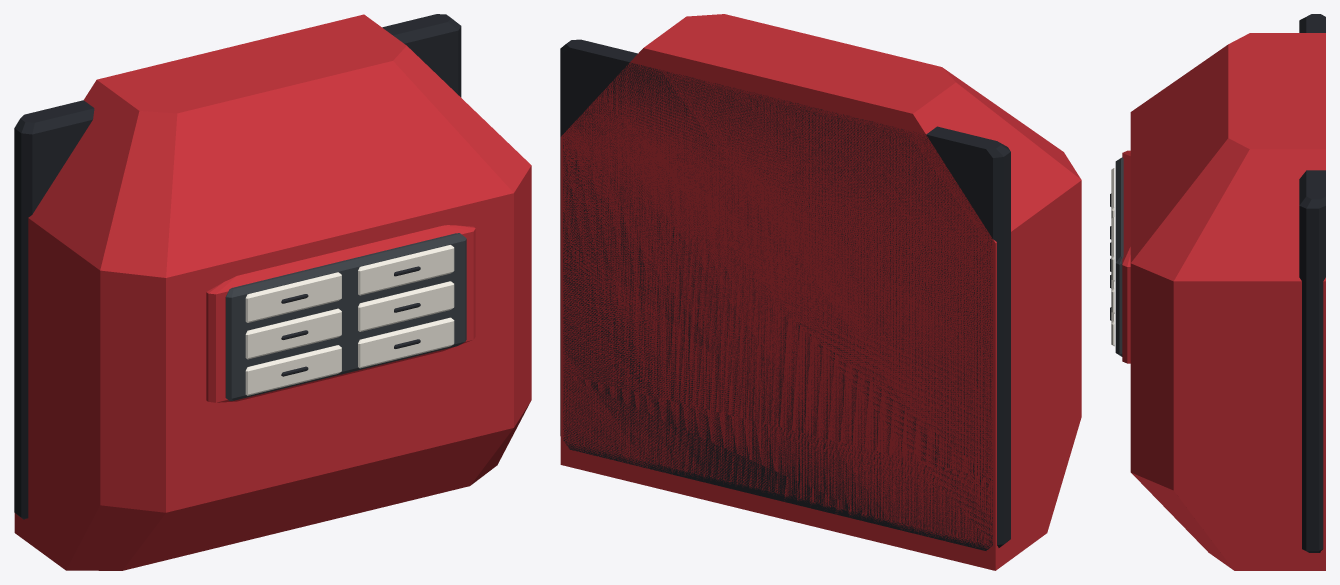
The model's file is FootFront_Set07_Salvo.fbx.
3 renders of one model, left to right at view 1: azimuth 30°, elevation 25°; view 2: azimuth 150°, elevation 25°; view 3: azimuth 270°, elevation 25°, orthographic. The views are drawn at different scales.
Parts seen in each view (by area): view 1: FootFront_Set07_Salvo; view 2: FootFront_Set07_Salvo; view 3: FootFront_Set07_Salvo.
Boxes of the visible parts, x1,y1,x2,y2 form: FootFront_Set07_Salvo: (14,14,531,570); FootFront_Set07_Salvo: (560,14,1081,570); FootFront_Set07_Salvo: (1110,14,1325,570).
Bounding box in the file's own units: 0.51 × 0.48 × 0.2433.
